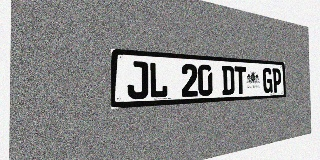0: (198, 64, 213, 96)
2: (181, 63, 198, 97)
D: (222, 66, 235, 95)
G: (263, 68, 273, 93)
J: (127, 61, 148, 99)
L: (149, 62, 168, 98)
P: (272, 68, 281, 93)
T: (235, 66, 246, 94)
